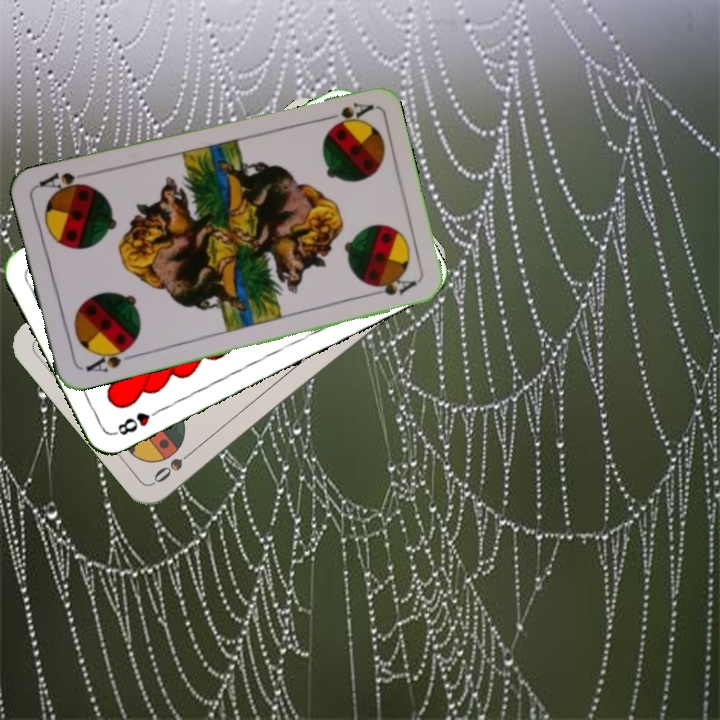H8: (110, 404, 165, 438)
SA: (82, 341, 138, 375), (316, 98, 375, 126)
SO: (149, 443, 200, 486)
